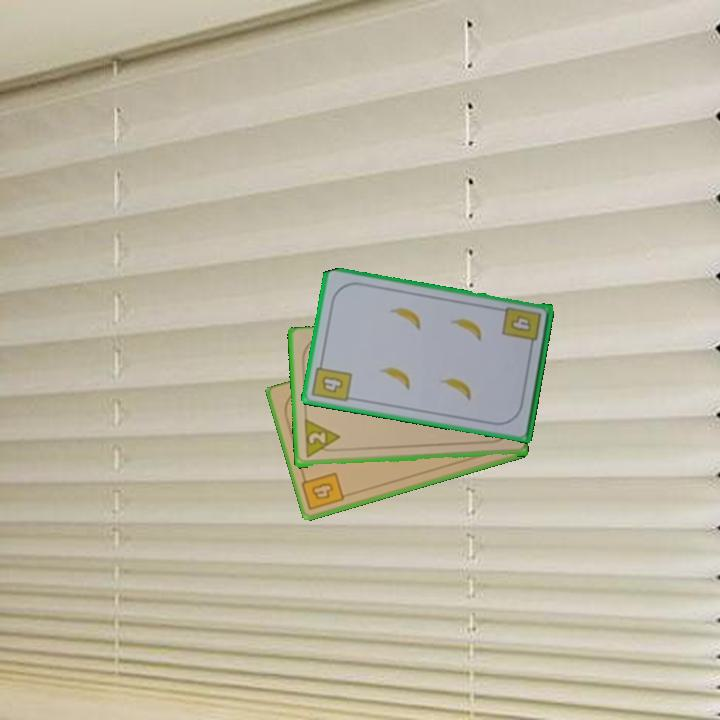2p: (301, 418, 343, 462)
4b: (309, 356, 355, 405), (298, 469, 347, 513), (506, 313, 532, 333)
